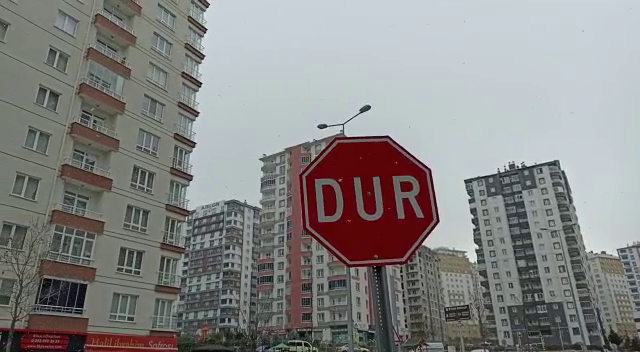stop: (294, 132, 444, 271)
